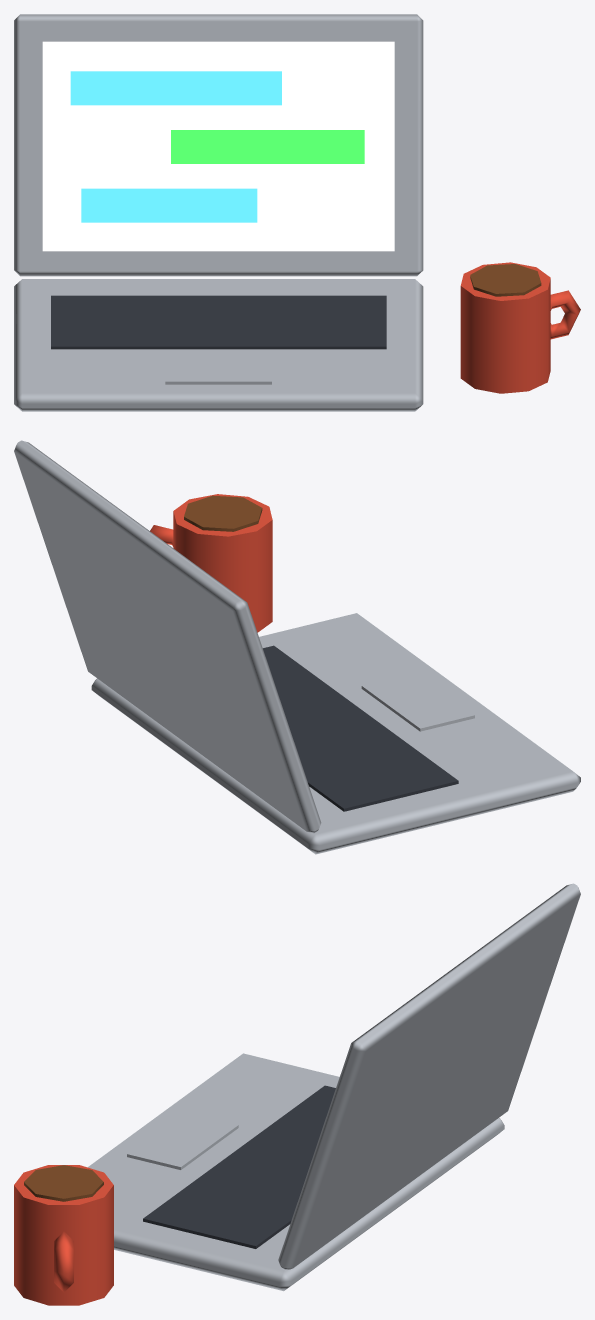
File: station_special_ausstattung_1_3.glb
The picture shows the model from 3 angles, top to bottom: view 1: azimuth 30°, elevation 25°; view 2: azimuth 150°, elevation 25°; view 3: azimuth 270°, elevation 25°; orthographic projection. The views are drawn at different scales.
Parts seen in each view (by area): view 1: station_special_ausstattung_1_3; view 2: station_special_ausstattung_1_3; view 3: station_special_ausstattung_1_3.
Boxes of the visible parts, x1=… form: station_special_ausstattung_1_3: x1=14, y1=14, x2=580, y2=411; station_special_ausstattung_1_3: x1=14, y1=440, x2=580, y2=854; station_special_ausstattung_1_3: x1=14, y1=883, x2=580, y2=1305.
Size of the model in its own units: 0.5441 by 0.2682 by 0.5111.
